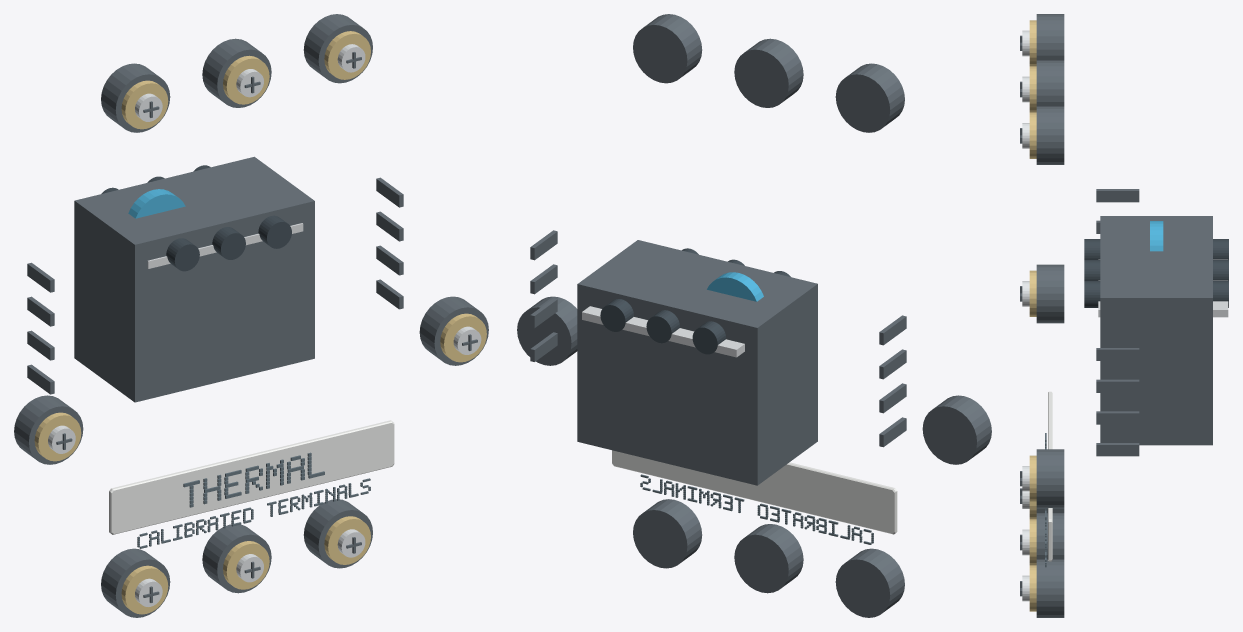
Rendered from thermalRelay.glb.
3 renders of one model, left to right at view 1: azimuth 30°, elevation 25°; view 2: azimuth 150°, elevation 25°; view 3: azimuth 270°, elevation 25°, orthographic. The views are drawn at different scales.
Parts seen in each view (by area): view 1: thermalRelay-detailed; view 2: thermalRelay-detailed; view 3: thermalRelay-detailed.
Boxes of the visible parts, <box> form: thermalRelay-detailed: <box>14,14,488,617</box>; thermalRelay-detailed: <box>517,14,991,617</box>; thermalRelay-detailed: <box>1020,14,1228,617</box>.
Bounding box in the file's own units: 2.65 × 2.98 × 1.11.
